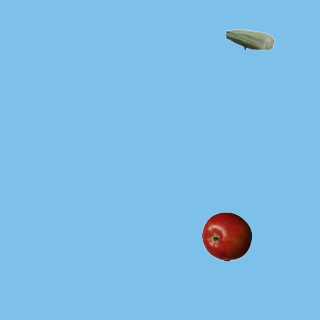Apple Braeburn: (201, 211, 251, 261)
Corn Husk: (224, 14, 274, 64)
